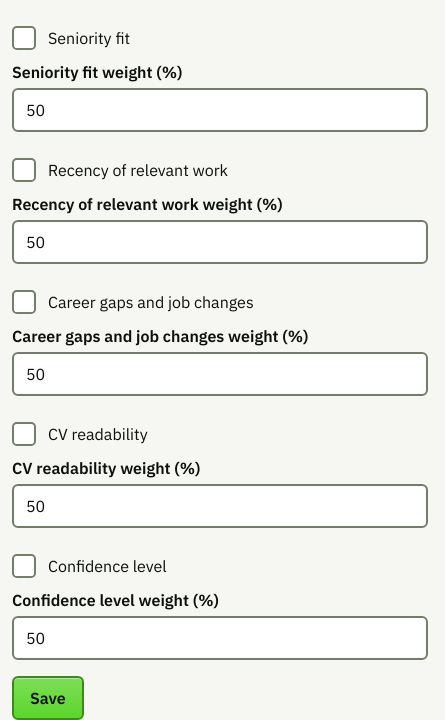
Scenario: scoring defaults › shows a refused value next to its field and no popup
(page scrolled)
Click the button "Save" at (48, 698), box [12, 676, 84, 719]
(page scrolled)
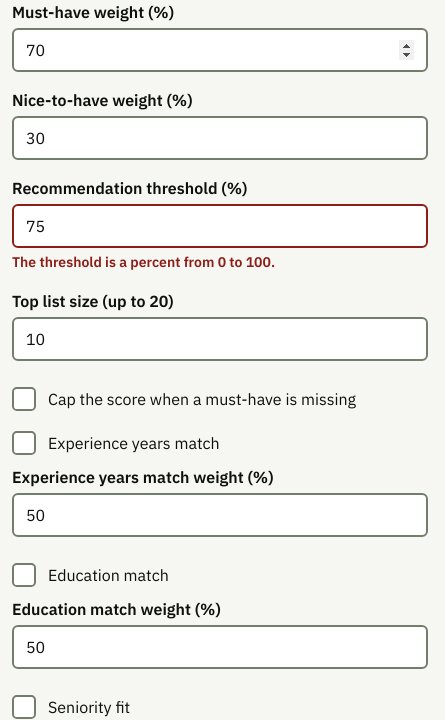
Expected: the text "The threshold is a percent from 0 to 100." is shown, [11, 252, 275, 271]
